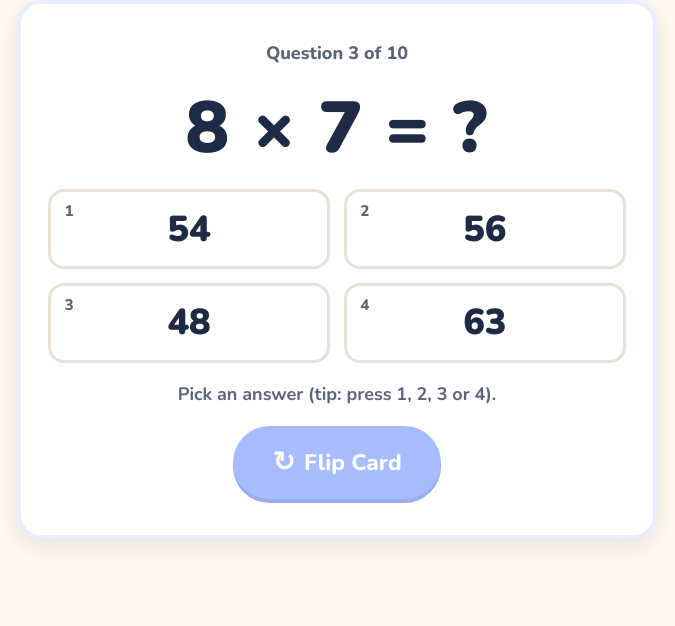
it: QuestionCard back › reveals the correct answer, the chosen answer and the explanation after flipping
Click the button "1 54" at x=189, y=229, box [48,189,330,269]
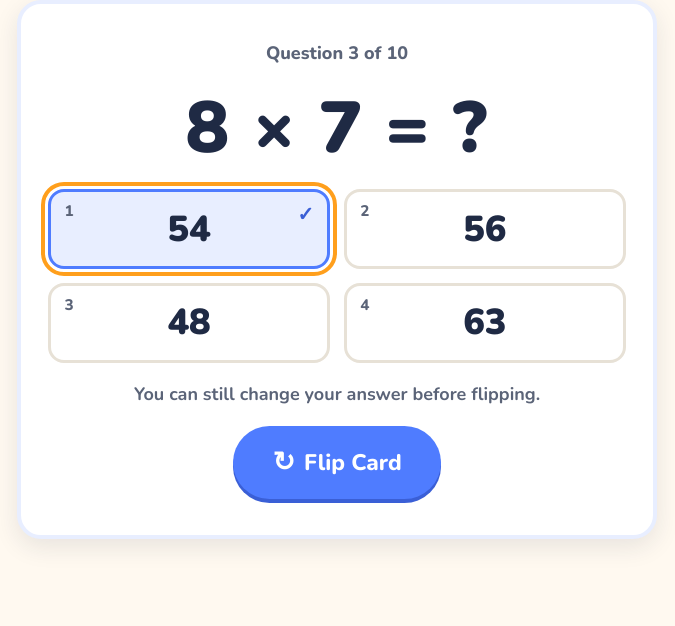
Click the button "↻ Flip Card" at x=337, y=462, box [233,426,441,499]
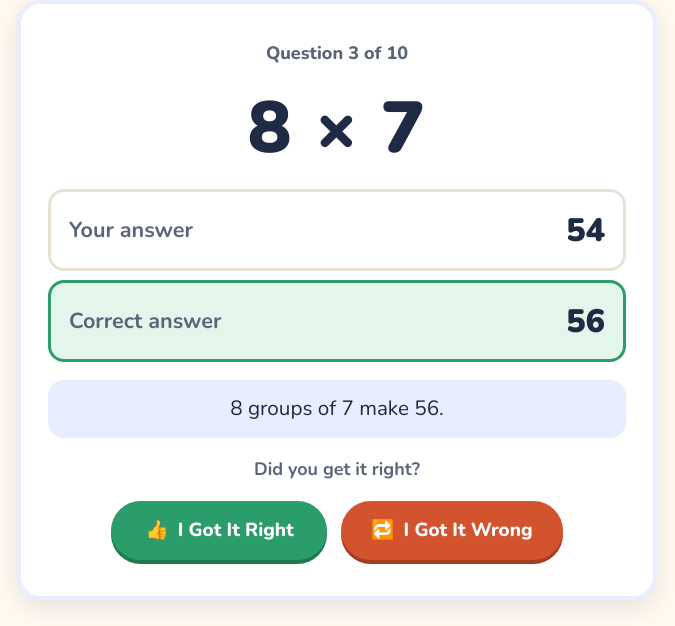
Expected: the text "56" is shown, [566,296,605,345]
Expected: the text "8 groups of 7 make 56." is shown, [48,380,626,438]
Expected: the button "👍 I Got It Right" is shown, [112,501,328,560]
